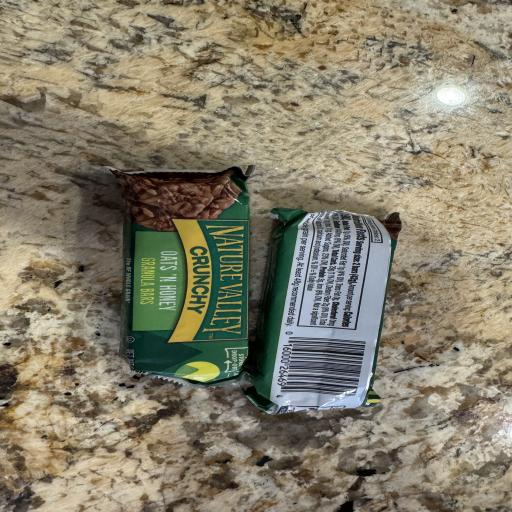granola: (246, 209, 401, 413), (110, 166, 252, 385)
